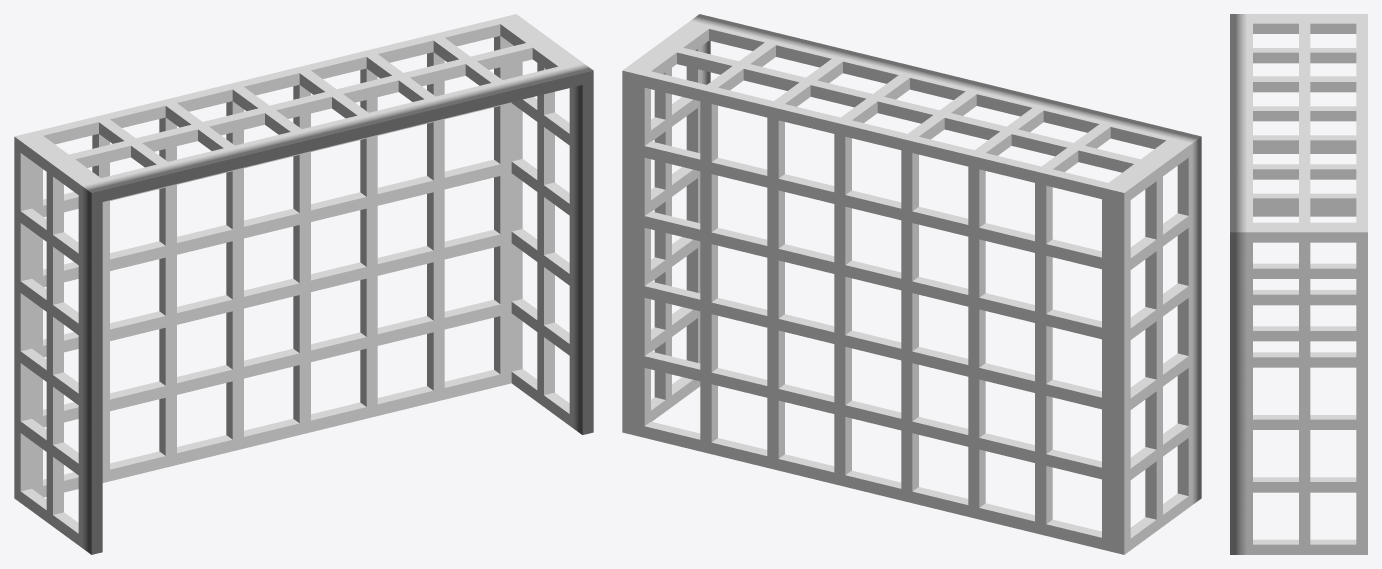
The model's file is goal.fbx.
3 renders of one model, left to right at view 1: azimuth 30°, elevation 25°; view 2: azimuth 150°, elevation 25°; view 3: azimuth 270°, elevation 25°, orthographic. The views are drawn at different scales.
Parts seen in each view (by area): view 1: Matrix_66; view 2: Matrix_66; view 3: Matrix_66.
Part boxes in pixels (<box>): Matrix_66: <box>14,14,593,554</box>; Matrix_66: <box>622,14,1201,554</box>; Matrix_66: <box>1230,14,1367,554</box>.
Bounding box in the file's own units: 45 × 31 × 12.
